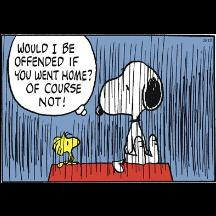snoopy: (94, 60, 164, 174)
